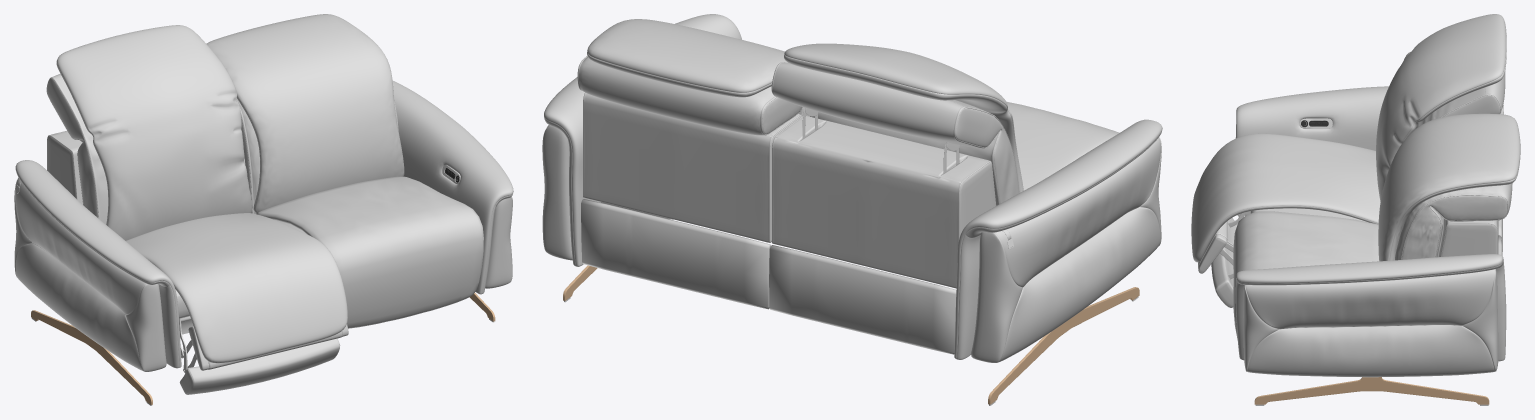
The model's file is SBH_HUDSON_2_Seater.glb.
3 renders of one model, left to right at view 1: azimuth 30°, elevation 25°; view 2: azimuth 150°, elevation 25°; view 3: azimuth 270°, elevation 25°, orthographic. The views are drawn at different scales.
Parts seen in each view (by area): view 1: HUDSON_2_Seater; view 2: HUDSON_2_Seater; view 3: HUDSON_2_Seater.
Part boxes in pixels (box(x1,y1,x2,y2)): HUDSON_2_Seater: box(14, 14, 513, 405); HUDSON_2_Seater: box(542, 14, 1162, 405); HUDSON_2_Seater: box(1191, 14, 1520, 405).
Bounding box in the file's own units: 1.71 × 1.05 × 1.26.
